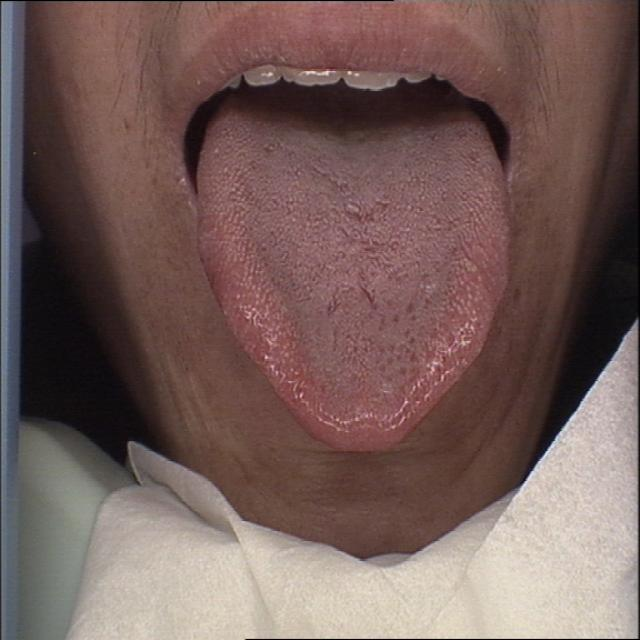tongue: (193, 96, 520, 460)
